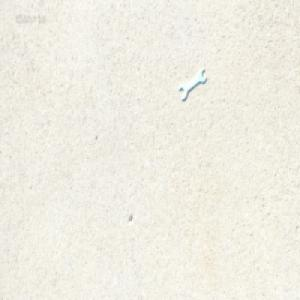Wrench: (179, 67, 206, 99)
